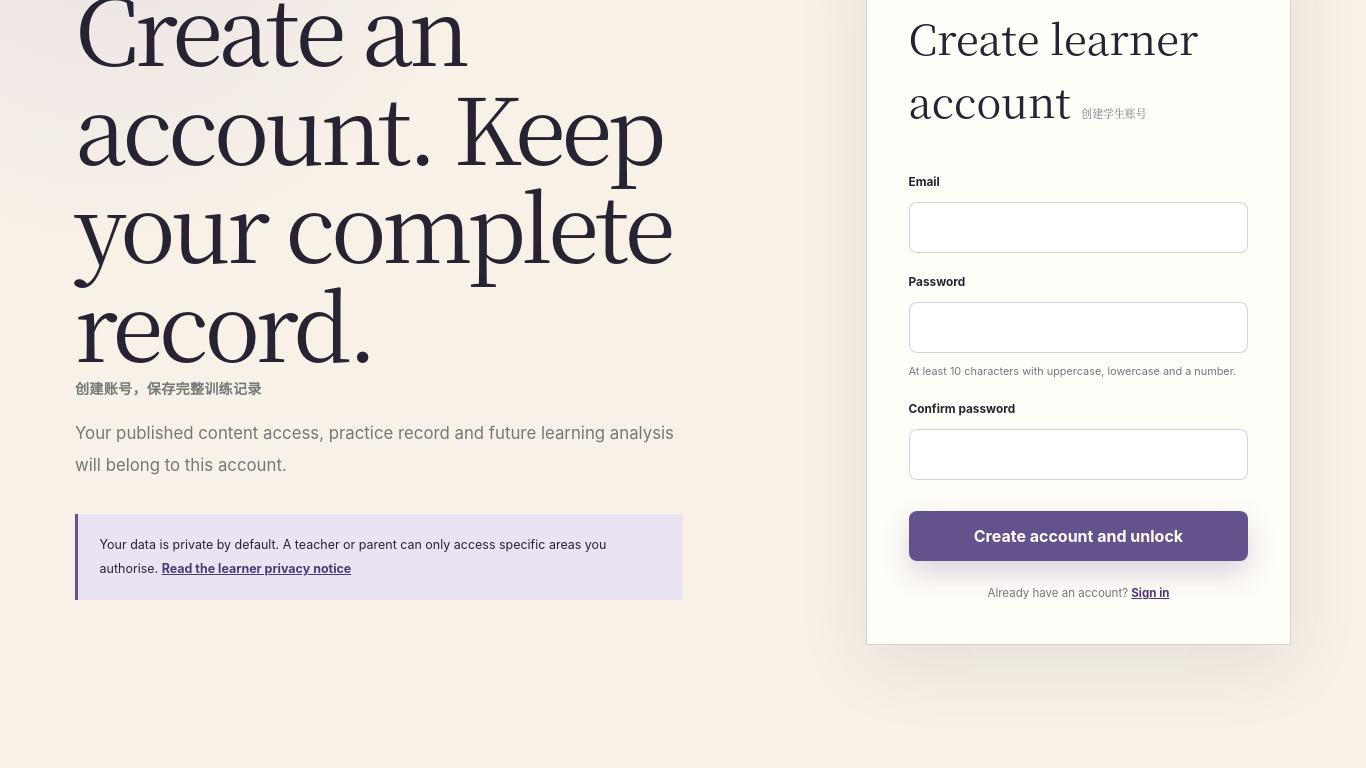
Test: invite-first account access flow › does not create an account until the registration fields pass locally
(page scrolled)
Click the button "Create account and unlock" at (1078, 536), box [908,511,1248,561]
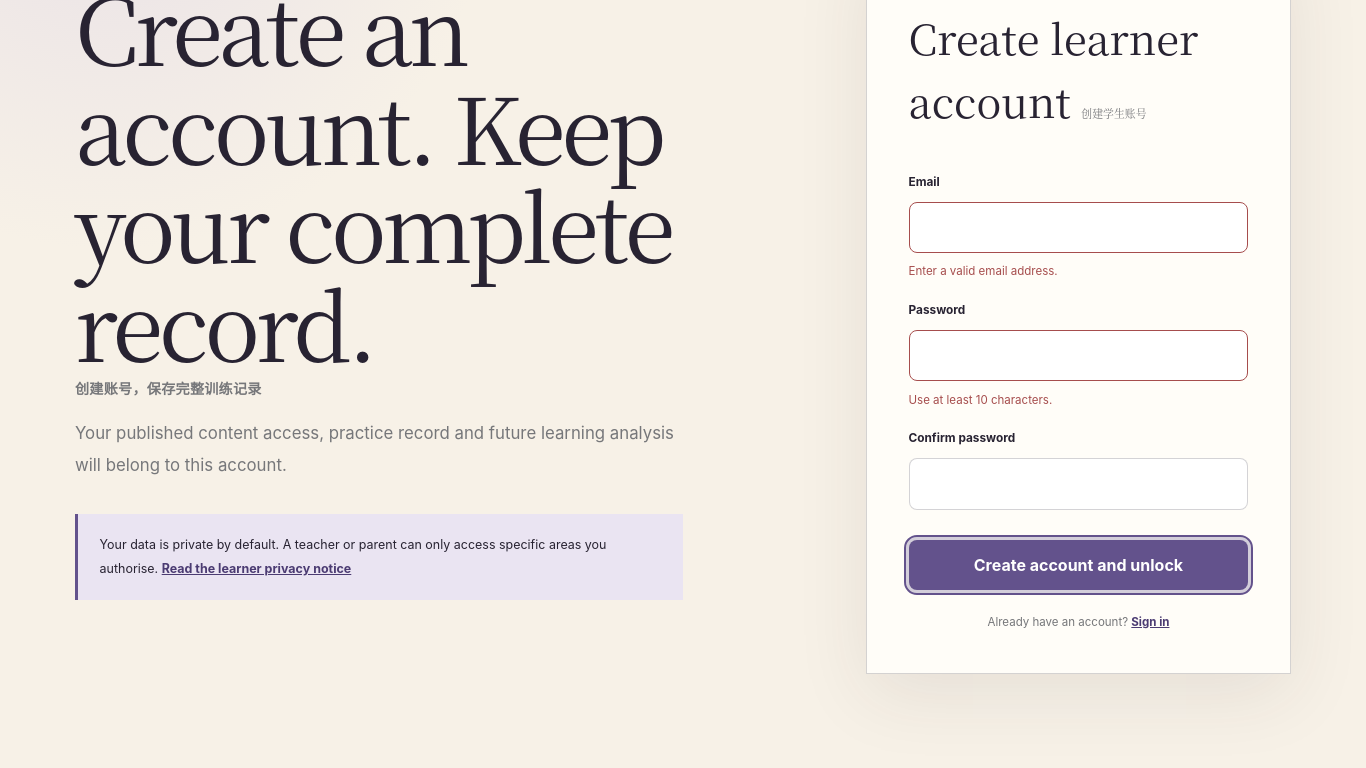
Now the text "Enter a valid email address." is shown, box [908,264,1058,278]
